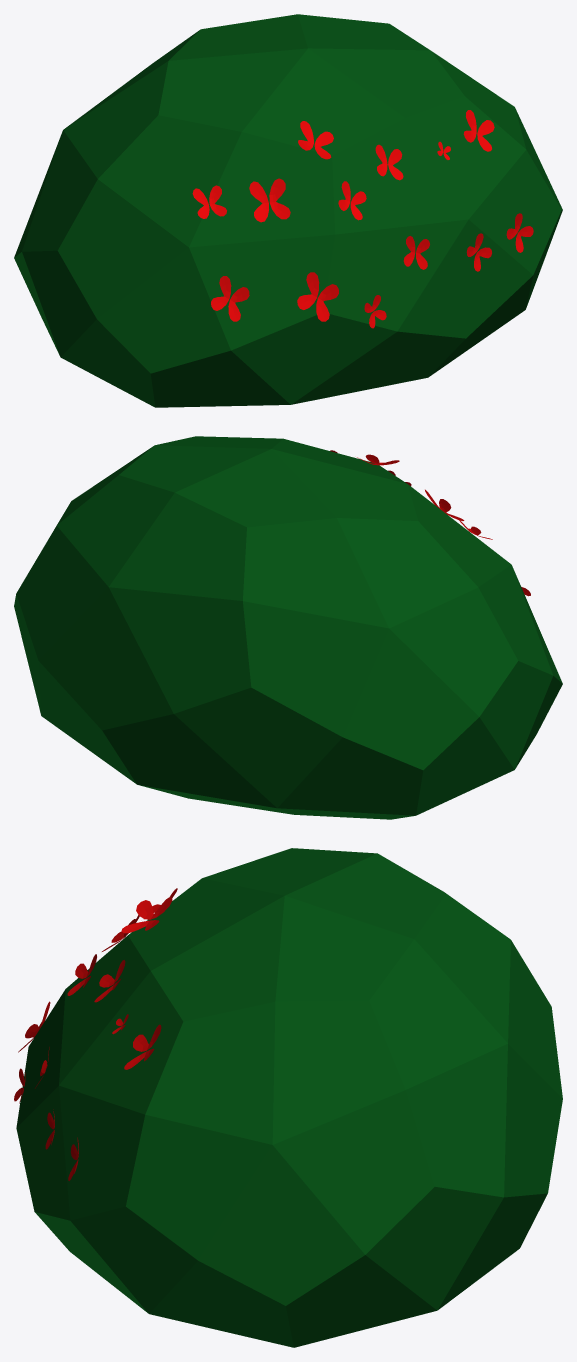
Rendered from flower.fbx.
3 renders of one model, top to bottom at view 1: azimuth 30°, elevation 25°; view 2: azimuth 150°, elevation 25°; view 3: azimuth 270°, elevation 25°, orthographic. The views are drawn at different scales.
Parts seen in each view (by area): view 1: Icosphere; view 2: Icosphere; view 3: Icosphere.
Boxes of the visible parts, x1,y1,x2,y2 form: Icosphere: (14, 14, 562, 407); Icosphere: (14, 436, 562, 819); Icosphere: (14, 848, 562, 1347).
Size of the model in its own units: 172 by 103 by 140.
